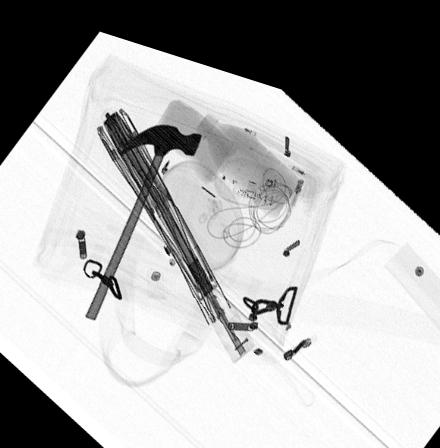Hammer: (84, 112, 203, 315)
